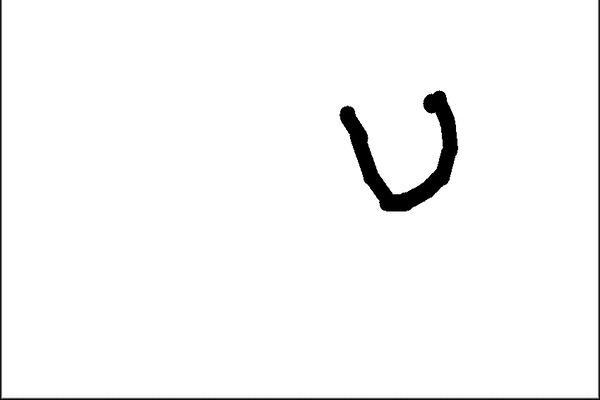U: (324, 72, 466, 220)
